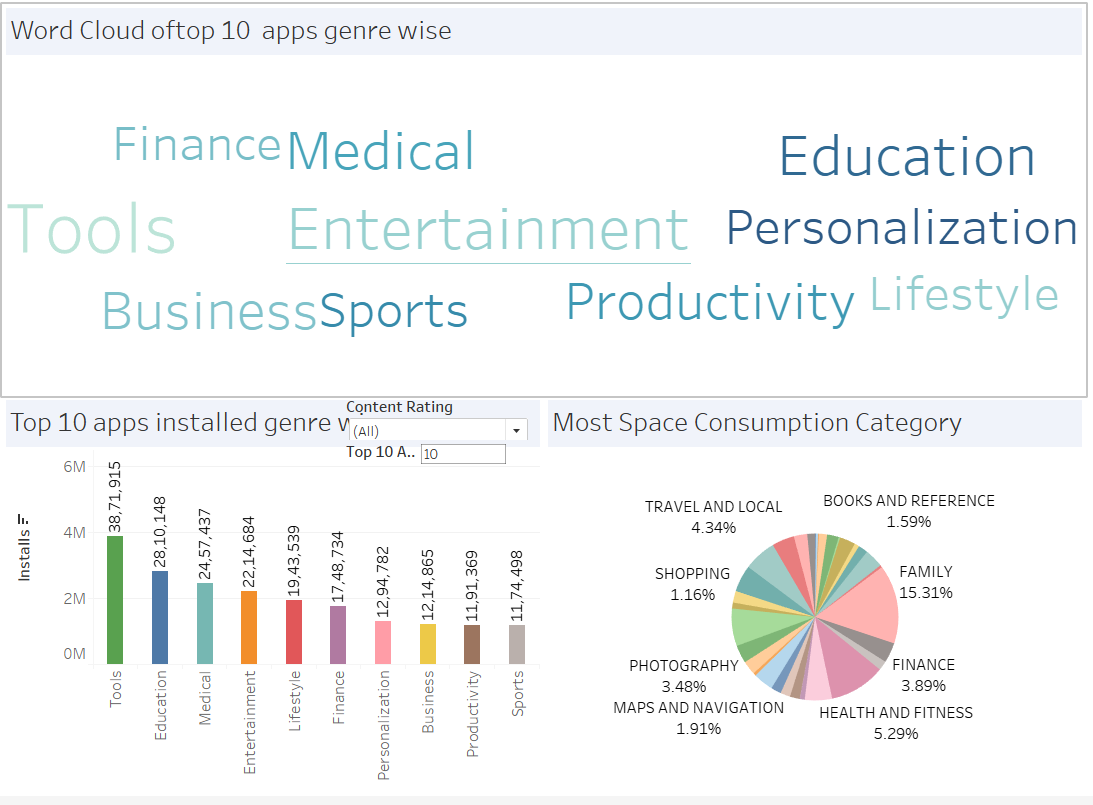

The dashboard page shown, as its layout file describes it:
{"tool":"tableau","page":{"name":"Genre Dashboard","canvas":[1100,800],"ordinal":6},"visuals":[{"type":"worksheet","title":"Word Cloud oftop 10  apps genre wise","mark":"Text","box":[8,8,1084,392]},{"type":"worksheet","title":"Top 10 apps installed genre wise","mark":"Automatic","rows":["Installs"],"cols":["Genres"],"box":[8,400,542,392]},{"type":"filter","title":"Top 10 apps installed genre wise","param":"[federated.0jte0ug11oyeyo1bnh2sw0zmi46u].[none:Content Rating:nk]","box":[352,400,185,44]},{"type":"worksheet","title":"Most Space Consumption Category","mark":"Pie","box":[550,400,542,392]},{"type":"parameter","param":"[Parameters].[Parameter 3]","box":[352,445,163,41]}]}

Visuals, with their boxes in screenshot pixels (x1, y1, x2, y2), scaled from the page's 1100x800 canvas onto the 1093x805 screenshot:
"Word Cloud oftop 10  apps genre wise" worksheet (Text marks): select_region(8, 8, 1085, 403)
"Top 10 apps installed genre wise" worksheet: select_region(8, 403, 546, 797)
"Top 10 apps installed genre wise" filter: select_region(350, 403, 534, 447)
"Most Space Consumption Category" worksheet (Pie marks): select_region(546, 403, 1085, 797)
parameter: select_region(350, 448, 512, 489)
